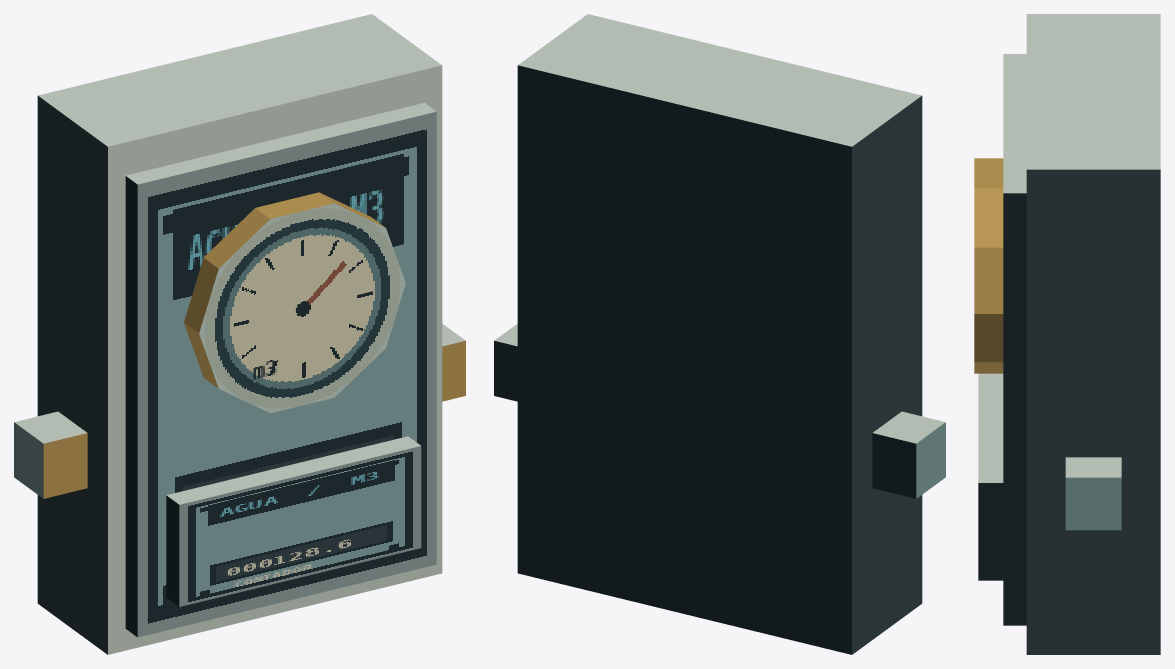
Rendered from medidor_agua.glb.
3 renders of one model, left to right at view 1: azimuth 30°, elevation 25°; view 2: azimuth 150°, elevation 25°; view 3: azimuth 270°, elevation 25°, orthographic. The views are drawn at different scales.
Parts seen in each view (by area): view 1: ELECTRICO; view 2: ELECTRICO; view 3: ELECTRICO.
Part boxes in pixels (bbox=[...]): ELECTRICO: bbox=[14, 14, 465, 654]; ELECTRICO: bbox=[494, 14, 945, 654]; ELECTRICO: bbox=[974, 14, 1160, 654].
Bounding box in the file's own units: 0.3658 × 0.4206 × 0.1463.
1 material, 1 textured.
